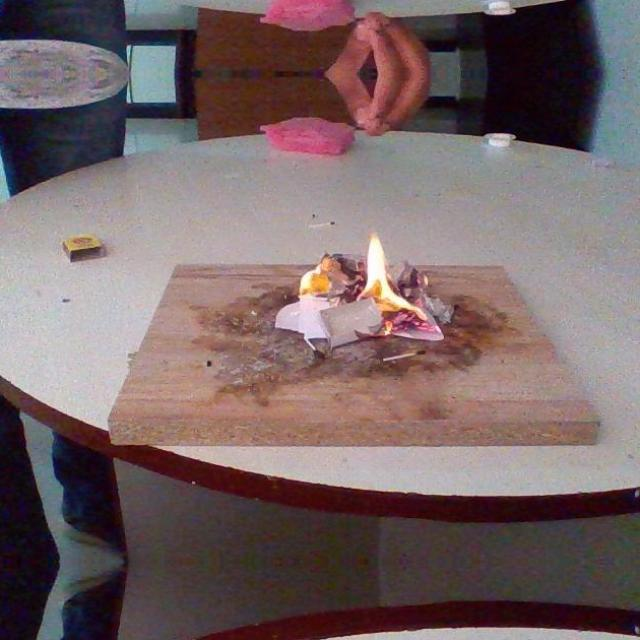smoke: (359, 231, 435, 320), (298, 261, 336, 300)
